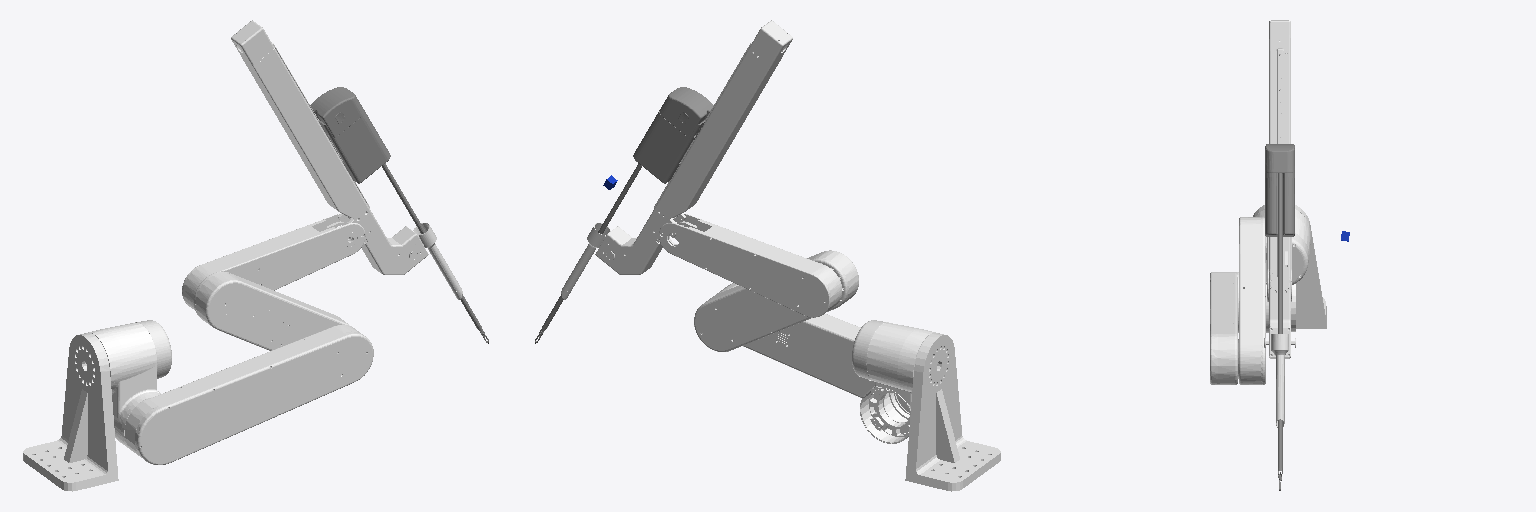
URDF robot description (robotrcm):
<?xml version="1.0" encoding="utf-8"?>
<!--
  S2RK surgical robot, serial model for the Robotica Medica lab (FCUL).

  Source: robotrcm.urdf (SolidWorks export) from the HFUT Open Source Surgical Robot Research Kit,
  S2RK_Software/S2RK_Simulation/RCM-Simulation/surr-robot/robotrcm/urdf, commit 3b0b801.
  Licence of the original: CC BY-NC-SA 4.0 / PolyForm Noncommercial 1.0.0.

  The real robot closes its parallelogram mechanically, which keeps the instrument through the
  remote centre of motion (RCM). Here the loop is left open: j1..j6 are six independent joints, so
  the RCM has to be kept by the controller. Links, joint frames, axes, masses and inertias are the
  authors' CAD values.

  Changes from the original:
    * mesh paths point to meshes/ next to this file;
    * j6 (instrument insertion) limits set in metres: [-0.10, 0.10] (were +-0.785, a placeholder),
      and its axis normalised to a unit vector;
    * Link6 (the instrument) mesh collision removed: its convex hull would fill the space between
      the housing and the tip. Replaced by a box on the housing and a cylinder on the shaft, on
      instrument_axis_link;
    * added instrument_axis_link (z along the shaft, towards the tip), tool_tip_link and camera_link;
      the last centimetre of the shaft collides as tool_tip_link, so that a force/torque sensor on the
      fixed joint tool_tip_fixed feels the contacts at the tip.
-->
<robot
  name="robotrcm">
  <link
    name="base_link">
    <inertial>
      <origin
        xyz="0.031978 9.6663E-08 0.080631"
        rpy="0 0 0" />
      <mass
        value="0.76204" />
      <inertia
        ixx="0.0045028"
        ixy="-1.5266E-09"
        ixz="-0.00063223"
        iyy="0.0038111"
        iyz="9.3725E-10"
        izz="0.0015555" />
    </inertial>
    <visual>
      <origin
        xyz="0 0 0"
        rpy="0 0 0" />
      <geometry>
        <mesh
          filename="meshes/base_link.STL" />
      </geometry>
      <material
        name="base_link_colour">
        <color
          rgba="0.9451 0.9451 0.9451 1" />
      </material>
    </visual>
    <collision>
      <origin
        xyz="0 0 0"
        rpy="0 0 0" />
      <geometry>
        <mesh
          filename="meshes/base_link.STL" />
      </geometry>
    </collision>
  </link>
  <link
    name="Link1">
    <inertial>
      <origin
        xyz="0.0543968370711238 -0.0149614502635682 -0.0518594922811562"
        rpy="0 0 0" />
      <mass
        value="0.526203943225122" />
      <inertia
        ixx="0.00201898925862427"
        ixy="5.30542440944828E-05"
        ixz="0.000245864582166184"
        iyy="0.0020596474783933"
        iyz="-0.000221278607825394"
        izz="0.000889519681622222" />
    </inertial>
    <visual>
      <origin
        xyz="0 0 0"
        rpy="0 0 0" />
      <geometry>
        <mesh
          filename="meshes/Link1.STL" />
      </geometry>
      <material
        name="Link1_colour">
        <color
          rgba="1 1 1 1" />
      </material>
    </visual>
    <collision>
      <origin
        xyz="0 0 0"
        rpy="0 0 0" />
      <geometry>
        <mesh
          filename="meshes/Link1.STL" />
      </geometry>
    </collision>
  </link>
  <joint
    name="j1"
    type="revolute">
    <origin
      xyz="0.048116 0 0.18"
      rpy="0 0 0" />
    <parent
      link="base_link" />
    <child
      link="Link1" />
    <axis
      xyz="-1 0 0" />
    <limit
      lower="-0.785"
      upper="0.785"
      effort="30"
      velocity="10" />
  </joint>
  <link
    name="Link2">
    <inertial>
      <origin
        xyz="0.155903889595032 -0.0185369546856527 0.0254949318876525"
        rpy="0 0 0" />
      <mass
        value="0.516229881365552" />
      <inertia
        ixx="0.000893749194195446"
        ixy="-2.37002017986798E-05"
        ixz="-0.00155811497578313"
        iyy="0.0109682423252694"
        iyz="-3.79472826106561E-06"
        izz="0.0101634856993977" />
    </inertial>
    <visual>
      <origin
        xyz="0 0 0"
        rpy="0 0 0" />
      <geometry>
        <mesh
          filename="meshes/Link2.STL" />
      </geometry>
      <material
        name="Link2_colour">
        <color
          rgba="0.945098039215686 0.945098039215686 0.945098039215686 1" />
      </material>
    </visual>
    <collision>
      <origin
        xyz="0 0 0"
        rpy="0 0 0" />
      <geometry>
        <mesh
          filename="meshes/Link2.STL" />
      </geometry>
    </collision>
  </link>
  <joint
    name="j2"
    type="revolute">
    <origin
      xyz="0.0675 -0.0727 -0.099441"
      rpy="0 0 0" />
    <parent
      link="Link1" />
    <child
      link="Link2" />
    <axis
      xyz="0 -1 0" />
    <limit
      lower="-0.785"
      upper="0.785"
      effort="30"
      velocity="10" />
  </joint>
  <link
    name="Link3">
    <inertial>
      <origin
        xyz="-0.11014 0.018912 0.067909"
        rpy="0 0 0" />
      <mass
        value="0.44383" />
      <inertia
        ixx="0.0014381"
        ixy="1.3059E-05"
        ixz="0.0016369"
        iyy="0.0044375"
        iyz="-8.0327E-06"
        izz="0.003084" />
    </inertial>
    <visual>
      <origin
        xyz="0 0 0"
        rpy="0 0 0" />
      <geometry>
        <mesh
          filename="meshes/Link3.STL" />
      </geometry>
      <material
        name="Link3_colour">
        <color
          rgba="0.9451 0.9451 0.9451 1" />
      </material>
    </visual>
    <collision>
      <origin
        xyz="0 0 0"
        rpy="0 0 0" />
      <geometry>
        <mesh
          filename="meshes/Link3.STL" />
      </geometry>
    </collision>
  </link>
  <joint
    name="j3"
    type="revolute">
    <origin
      xyz="0.35133 0.0017 0.05747"
      rpy="0 0 0" />
    <parent
      link="Link2" />
    <child
      link="Link3" />
    <axis
      xyz="0 -1 0" />
    <limit
      lower="-0.785"
      upper="0.785"
      effort="30"
      velocity="10" />
  </joint>
  <link
    name="Link4">
    <inertial>
      <origin
        xyz="0.107584966237577 0.01530609707738 0.0175990467266355"
        rpy="0 0 0" />
      <mass
        value="0.306124202965196" />
      <inertia
        ixx="0.000280878042144891"
        ixy="-6.92394755756288E-05"
        ixz="-0.000385061224589275"
        iyy="0.00275249502028693"
        iyz="-1.13267404913096E-05"
        izz="0.00257168785282192" />
    </inertial>
    <visual>
      <origin
        xyz="0 0 0"
        rpy="0 0 0" />
      <geometry>
        <mesh
          filename="meshes/Link4.STL" />
      </geometry>
      <material
        name="Link4_colour">
        <color
          rgba="0.945098039215686 0.945098039215686 0.945098039215686 1" />
      </material>
    </visual>
    <collision>
      <origin
        xyz="0 0 0"
        rpy="0 0 0" />
      <geometry>
        <mesh
          filename="meshes/Link4.STL" />
      </geometry>
    </collision>
  </link>
  <joint
    name="j4"
    type="revolute">
    <origin
      xyz="-0.20089 0.0505 0.12385"
      rpy="0 0 0" />
    <parent
      link="Link3" />
    <child
      link="Link4" />
    <axis
      xyz="0 1 0" />
    <limit
      lower="-0.785"
      upper="0.785"
      effort="30"
      velocity="10" />
  </joint>
  <link
    name="Link5">
    <inertial>
      <origin
        xyz="-0.0200146478719821 0.0177057139688335 0.133259040470697"
        rpy="0 0 0" />
      <mass
        value="0.310424118716014" />
      <inertia
        ixx="0.00190126552005404"
        ixy="-1.18170636873905E-05"
        ixz="0.000993016757911281"
        iyy="0.00244459522675595"
        iyz="4.6149101334156E-06"
        izz="0.000624990046805462" />
    </inertial>
    <visual>
      <origin
        xyz="0 0 0"
        rpy="0 0 0" />
      <geometry>
        <mesh
          filename="meshes/Link5.STL" />
      </geometry>
      <material
        name="Link5_colour">
        <color
          rgba="0.945098039215686 0.945098039215686 0.945098039215686 1" />
      </material>
    </visual>
    <collision>
      <origin
        xyz="0 0 0"
        rpy="0 0 0" />
      <geometry>
        <mesh
          filename="meshes/Link5.STL" />
      </geometry>
    </collision>
  </link>
  <joint
    name="j5"
    type="revolute">
    <origin
      xyz="0.25659 0.001 0.041972"
      rpy="0 0 0" />
    <parent
      link="Link4" />
    <child
      link="Link5" />
    <axis
      xyz="0 -1 0" />
    <limit
      lower="-0.785"
      upper="0.785"
      effort="30"
      velocity="10" />
  </joint>
  <link
    name="Link6">
    <inertial>
      <origin
        xyz="-0.12845 2.3165E-06 0.19562"
        rpy="0 0 0" />
      <mass
        value="0.11938" />
      <inertia
        ixx="0.00027467"
        ixy="1.3746E-08"
        ixz="9.7804E-05"
        iyy="0.00035435"
        iyz="1.6289E-08"
        izz="0.00014591" />
    </inertial>
    <visual>
      <origin
        xyz="0 0 0"
        rpy="0 0 0" />
      <geometry>
        <mesh
          filename="meshes/Link6.STL" />
      </geometry>
      <material
        name="Link6_colour">
        <color
          rgba="0.6 0.6 0.6 1" />
      </material>
    </visual>
  </link>
  <joint
    name="j6"
    type="prismatic">
    <origin
      xyz="0.14741 0.0195 -0.024725"
      rpy="0 0 0" />
    <parent
      link="Link5" />
    <child
      link="Link6" />
    <axis
      xyz="0.4747819 0 -0.8801035" />
    <limit
      lower="-0.10"
      upper="0.10"
      effort="30"
      velocity="0.5" />
  </joint>

  <!-- ===================== Added for the lab ===================== -->
  <!-- Frame on the instrument axis: origin at the Link6 frame, z along the shaft towards the tip
       (the j6 axis), y the same as Link6 y. -->
  <link name="instrument_axis_link">
    <inertial>
      <origin xyz="0 0 0" rpy="0 0 0" />
      <mass value="0.001" />
      <inertia ixx="1e-8" ixy="0" ixz="0" iyy="1e-8" iyz="0" izz="1e-8" />
    </inertial>
    <visual>
      <!-- tiny invisible visual: without one, the PyBullet window draws the collision shapes -->
      <origin xyz="0 0 0" rpy="0 0 0" />
      <geometry><sphere radius="0.0005" /></geometry>
      <material name="invisible"><color rgba="1 1 1 0" /></material>
    </visual>
    <collision>
      <!-- motor housing -->
      <origin xyz="0.0215 0 -0.2485" rpy="0 0 0" />
      <geometry><box size="0.075 0.051 0.157" /></geometry>
    </collision>
    <collision>
      <!-- shaft, from the housing to 1 cm before the tip (the last centimetre is tool_tip_link) -->
      <origin xyz="0 0 0.0435" rpy="0 0 0" />
      <geometry><cylinder radius="0.0042" length="0.427" /></geometry>
    </collision>
  </link>

  <joint name="instrument_axis_fixed" type="fixed">
    <origin xyz="0 0 0" rpy="0 2.6468764669481026 0" />
    <parent link="Link6" />
    <child link="instrument_axis_link" />
  </joint>

  <link name="tool_tip_link">
    <inertial>
      <origin xyz="0 0 0" rpy="0 0 0" />
      <mass value="0.001" />
      <inertia ixx="1e-8" ixy="0" ixz="0" iyy="1e-8" iyz="0" izz="1e-8" />
    </inertial>
    <visual>
      <origin xyz="0 0 0" rpy="0 0 0" />
      <geometry><sphere radius="0.002" /></geometry>
      <material name="tip_grey"><color rgba="0.3 0.3 0.3 1" /></material>
    </visual>
    <collision>
      <!-- the last centimetre of the shaft: contacts here are felt by the tip force/torque sensor -->
      <origin xyz="0 0 -0.005" rpy="0 0 0" />
      <geometry><cylinder radius="0.0042" length="0.010" /></geometry>
    </collision>
    <collision>
      <!-- rounded end -->
      <origin xyz="0 0 0" rpy="0 0 0" />
      <geometry><sphere radius="0.0042" /></geometry>
    </collision>
  </link>

  <joint name="tool_tip_fixed" type="fixed">
    <origin xyz="0 0 0.267" rpy="0 0 0" />
    <parent link="instrument_axis_link" />
    <child link="tool_tip_link" />
  </joint>

  <!-- Camera on the instrument housing, 11 cm to the side of the shaft, looking along the shaft and
       tilted 0.17 rad towards it (so it sees past the trocar port).
       Camera frame: z = optical axis, x = image right, y = image down. -->
  <link name="camera_link">
    <inertial>
      <origin xyz="0 0 0" rpy="0 0 0" />
      <mass value="0.01" />
      <inertia ixx="1e-7" ixy="0" ixz="0" iyy="1e-7" iyz="0" izz="1e-7" />
    </inertial>
    <visual>
      <origin xyz="0 0 -0.008" rpy="0 0 0" />
      <geometry><box size="0.014 0.014 0.016" /></geometry>
      <material name="camera_blue"><color rgba="0.15 0.30 0.80 1" /></material>
    </visual>
  </link>

  <joint name="camera_mount" type="fixed">
    <origin xyz="0 0.110 -0.160" rpy="-0.17 0 3.141592653589793" />
    <parent link="instrument_axis_link" />
    <child link="camera_link" />
  </joint>
</robot>

--- What the picture shows (computed from the rendered views, not written in the file) ---
Views: 3 orthographic renders of the robot side by side, from view 1: azimuth 30°, elevation 25°; view 2: azimuth 150°, elevation 25°; view 3: azimuth 270°, elevation 25°.
Robot: robotrcm — 10 links, 9 joints (5 revolute, 1 prismatic, 3 fixed); root link base_link; default pose: all joints at 0.
Visible links, largest first — view 1: Link2, Link5, base_link, Link3, Link4, Link6, Link1; view 2: Link5, base_link, Link4, Link3, Link2, Link1, Link6; view 3: Link5, Link3, Link6, Link2, base_link, Link1.
Link boxes in pixels (x1,y1,x2,y2): Link2: (124, 325, 373, 464); Link5: (231, 20, 462, 299); base_link: (23, 320, 171, 491); Link3: (194, 271, 351, 350); Link4: (182, 214, 365, 309); Link6: (310, 87, 488, 342); Link1: (88, 323, 160, 450); Link5: (561, 20, 792, 299); base_link: (852, 320, 1000, 491); Link4: (659, 214, 841, 317); Link3: (694, 250, 858, 351); Link2: (716, 283, 909, 414); Link1: (860, 322, 935, 443); Link6: (535, 87, 713, 342); Link5: (1264, 20, 1295, 427); Link3: (1238, 217, 1265, 384); Link6: (1265, 144, 1294, 489); Link2: (1210, 272, 1237, 384); base_link: (1253, 205, 1326, 328); Link1: (1238, 209, 1310, 332).
Bounding box of the posed robot: 0.8487 × 0.2396 × 0.7249 m (x, y, z).
Meshes: 7 distinct files referenced, 7 mesh visuals loaded (7 binary STL).
